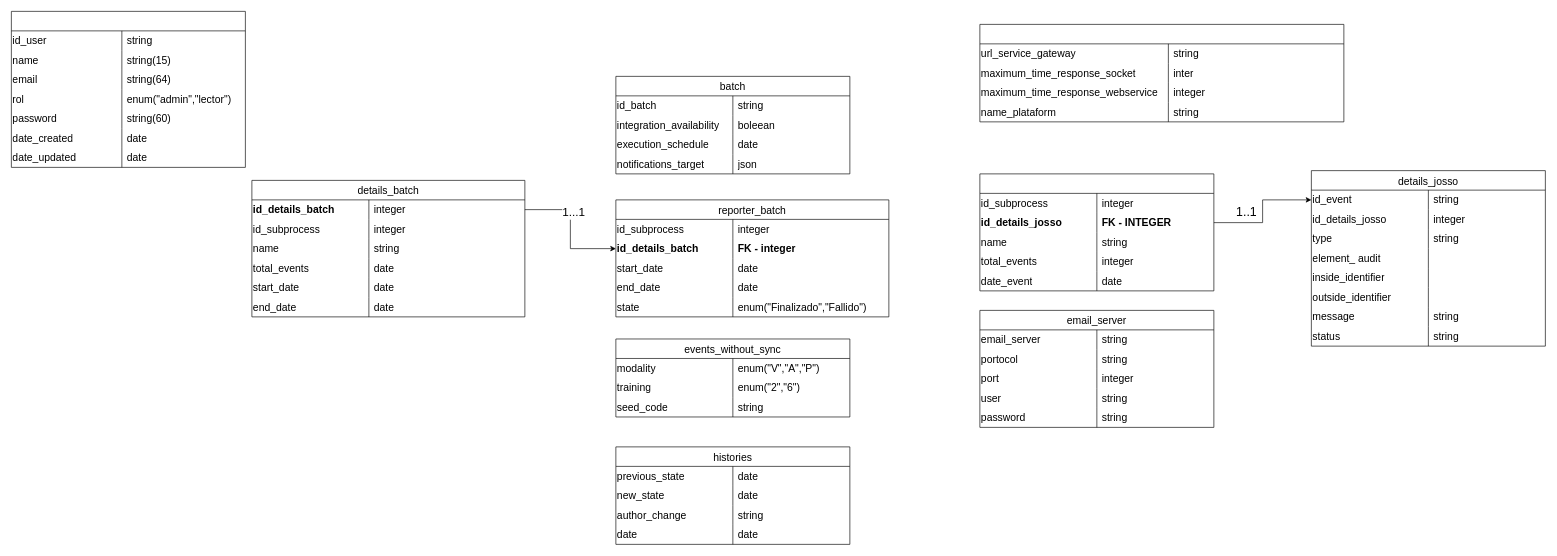
The diagram is 1557 pixels wide and 556 high, and some of its shapes have lost their labels. The shapes that lost their labels are listed below. From the top down, each one's box as (x1, y1, x2, y2) in pixels, then its label:
(11, 11, 245, 167): users
(979, 24, 1344, 122): josso
(979, 173, 1214, 291): reporter_josso
